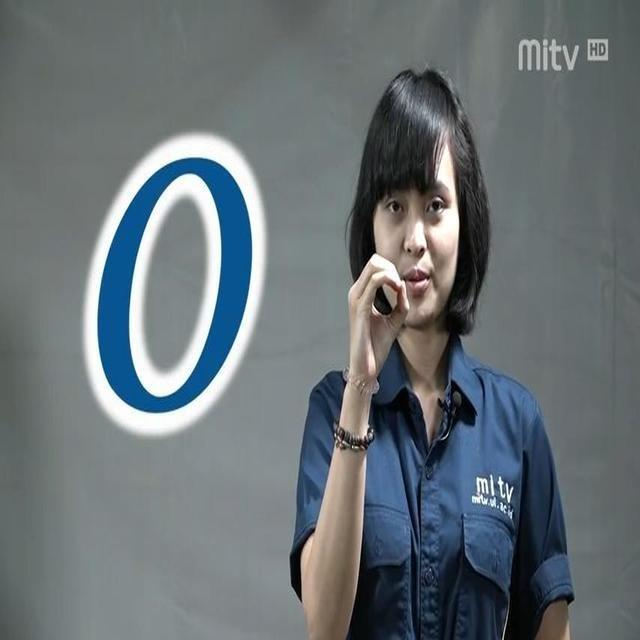O: (336, 246, 414, 370)
